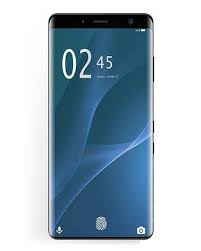sony: (44, 11, 157, 241)
